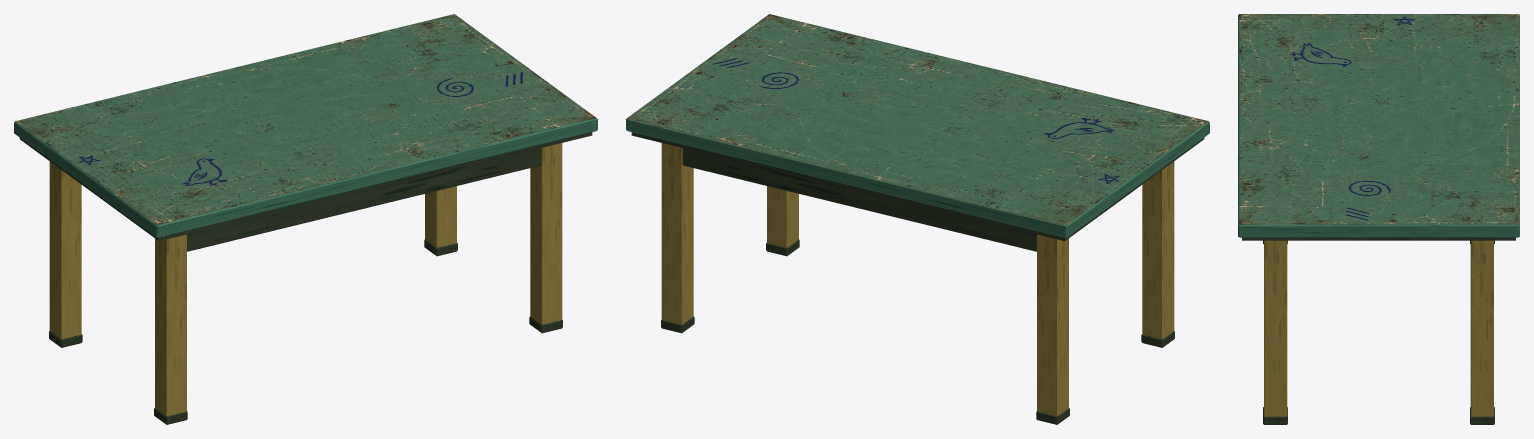
The model's file is retro_mesa.glb.
The picture shows the model from 3 angles, left to right: view 1: azimuth 30°, elevation 25°; view 2: azimuth 150°, elevation 25°; view 3: azimuth 270°, elevation 25°; orthographic projection.
Visible parts, largest first — view 1: retro_mesa; view 2: retro_mesa; view 3: retro_mesa.
Part boxes in pixels (x1,y1,x2,y2): retro_mesa: [14, 14, 597, 424]; retro_mesa: [626, 14, 1209, 424]; retro_mesa: [1238, 14, 1519, 424].
Bounding box in the file's own units: 1.6 × 0.7425 × 0.9.
Materials: 4 (4 with a texture image).
